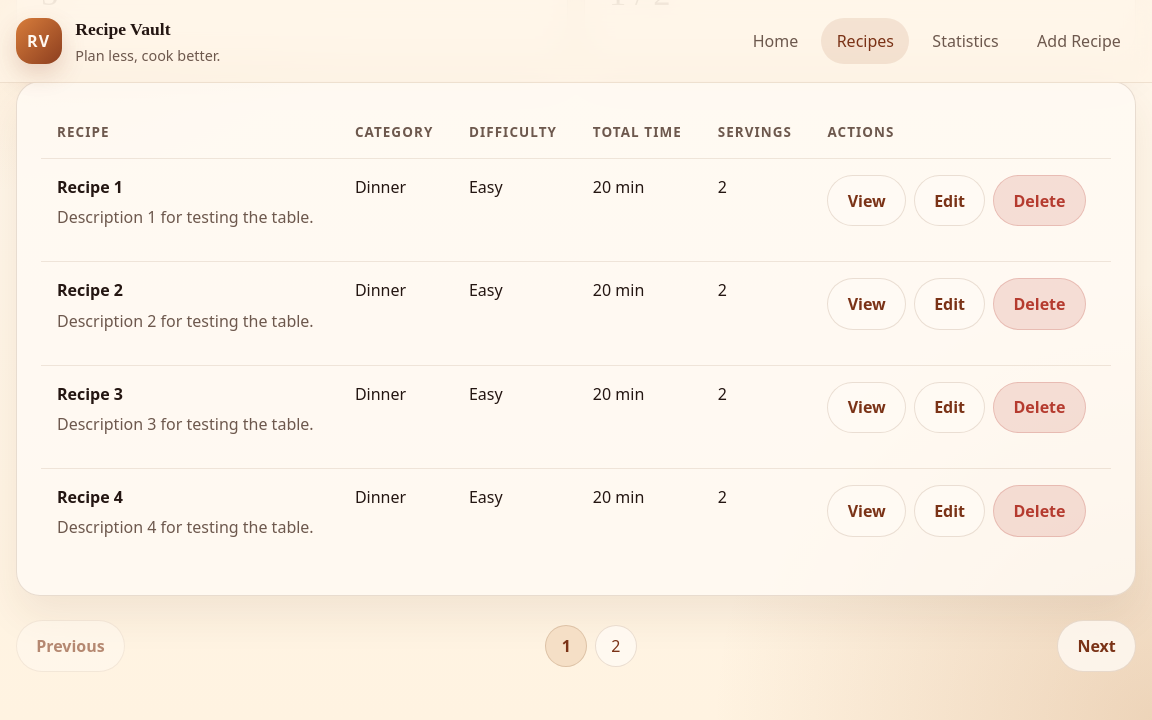
Test: Recipes page › paginates the table results
(page scrolled)
Expected: the link "Recipe 1" is shown, [57,176,123,198]
Expected: the link "Recipe 4" is shown, [57,486,123,508]
Click the button "Next". click: (1097, 646)
box: [1057,620,1136,672]
(page scrolled)
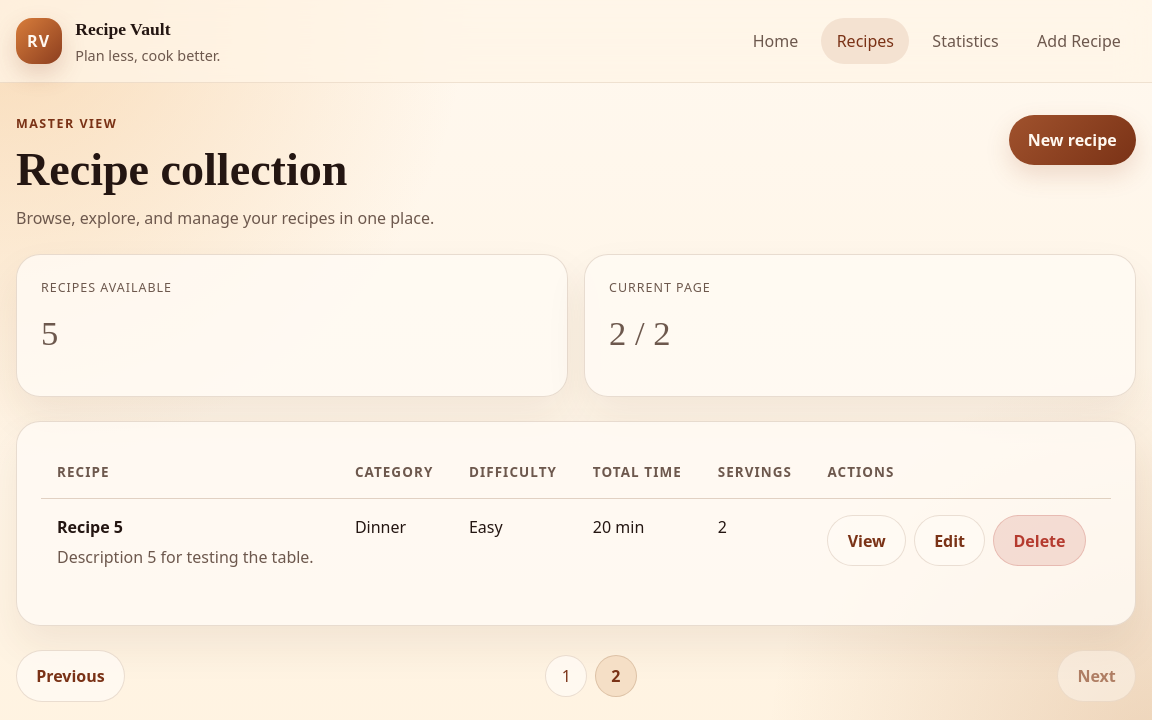
Expected: the link "Recipe 5" is shown, [57,516,123,538]
Expected: the link "Recipe 1" is gone
